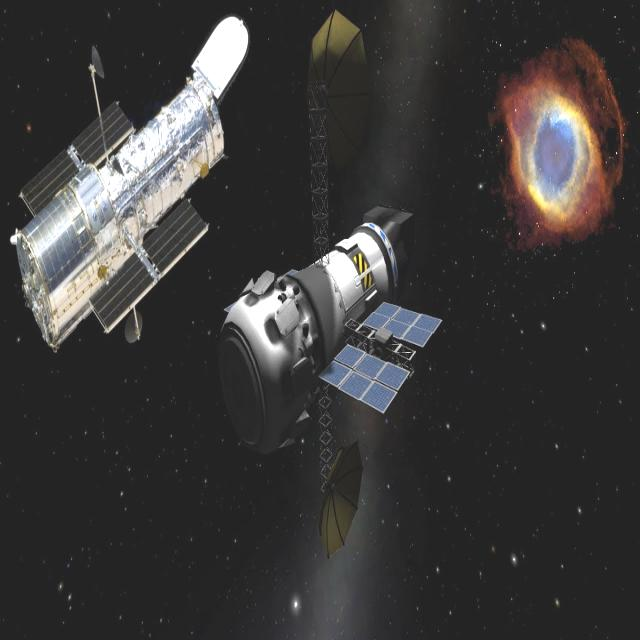medium_debris: (10, 14, 251, 356), (217, 200, 446, 460)
